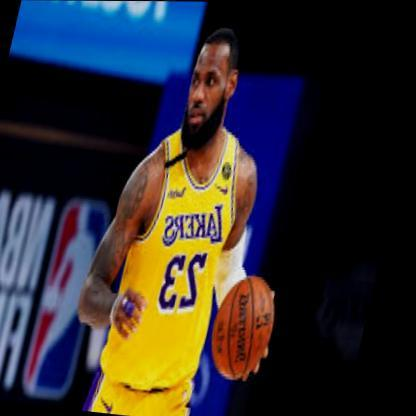basketball: (211, 273, 289, 381)
